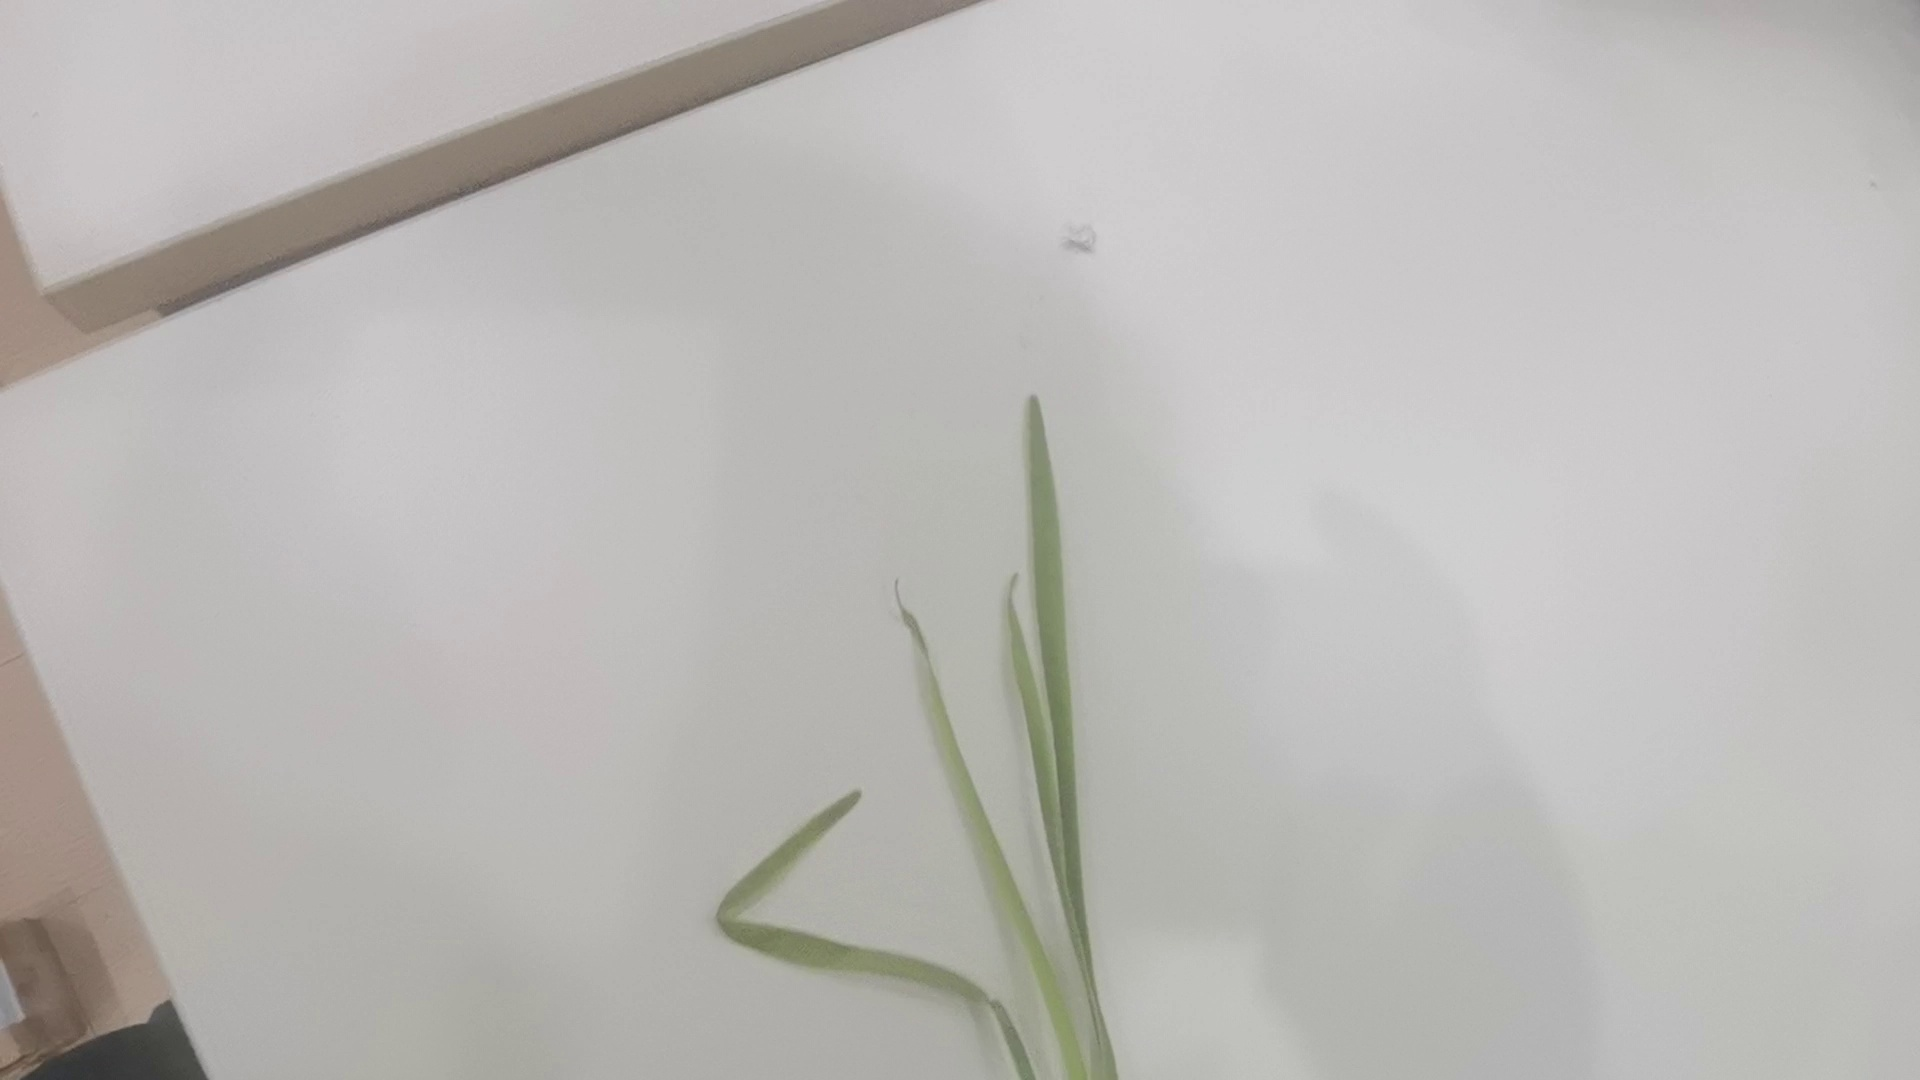chives: (709, 397, 1130, 1080)
